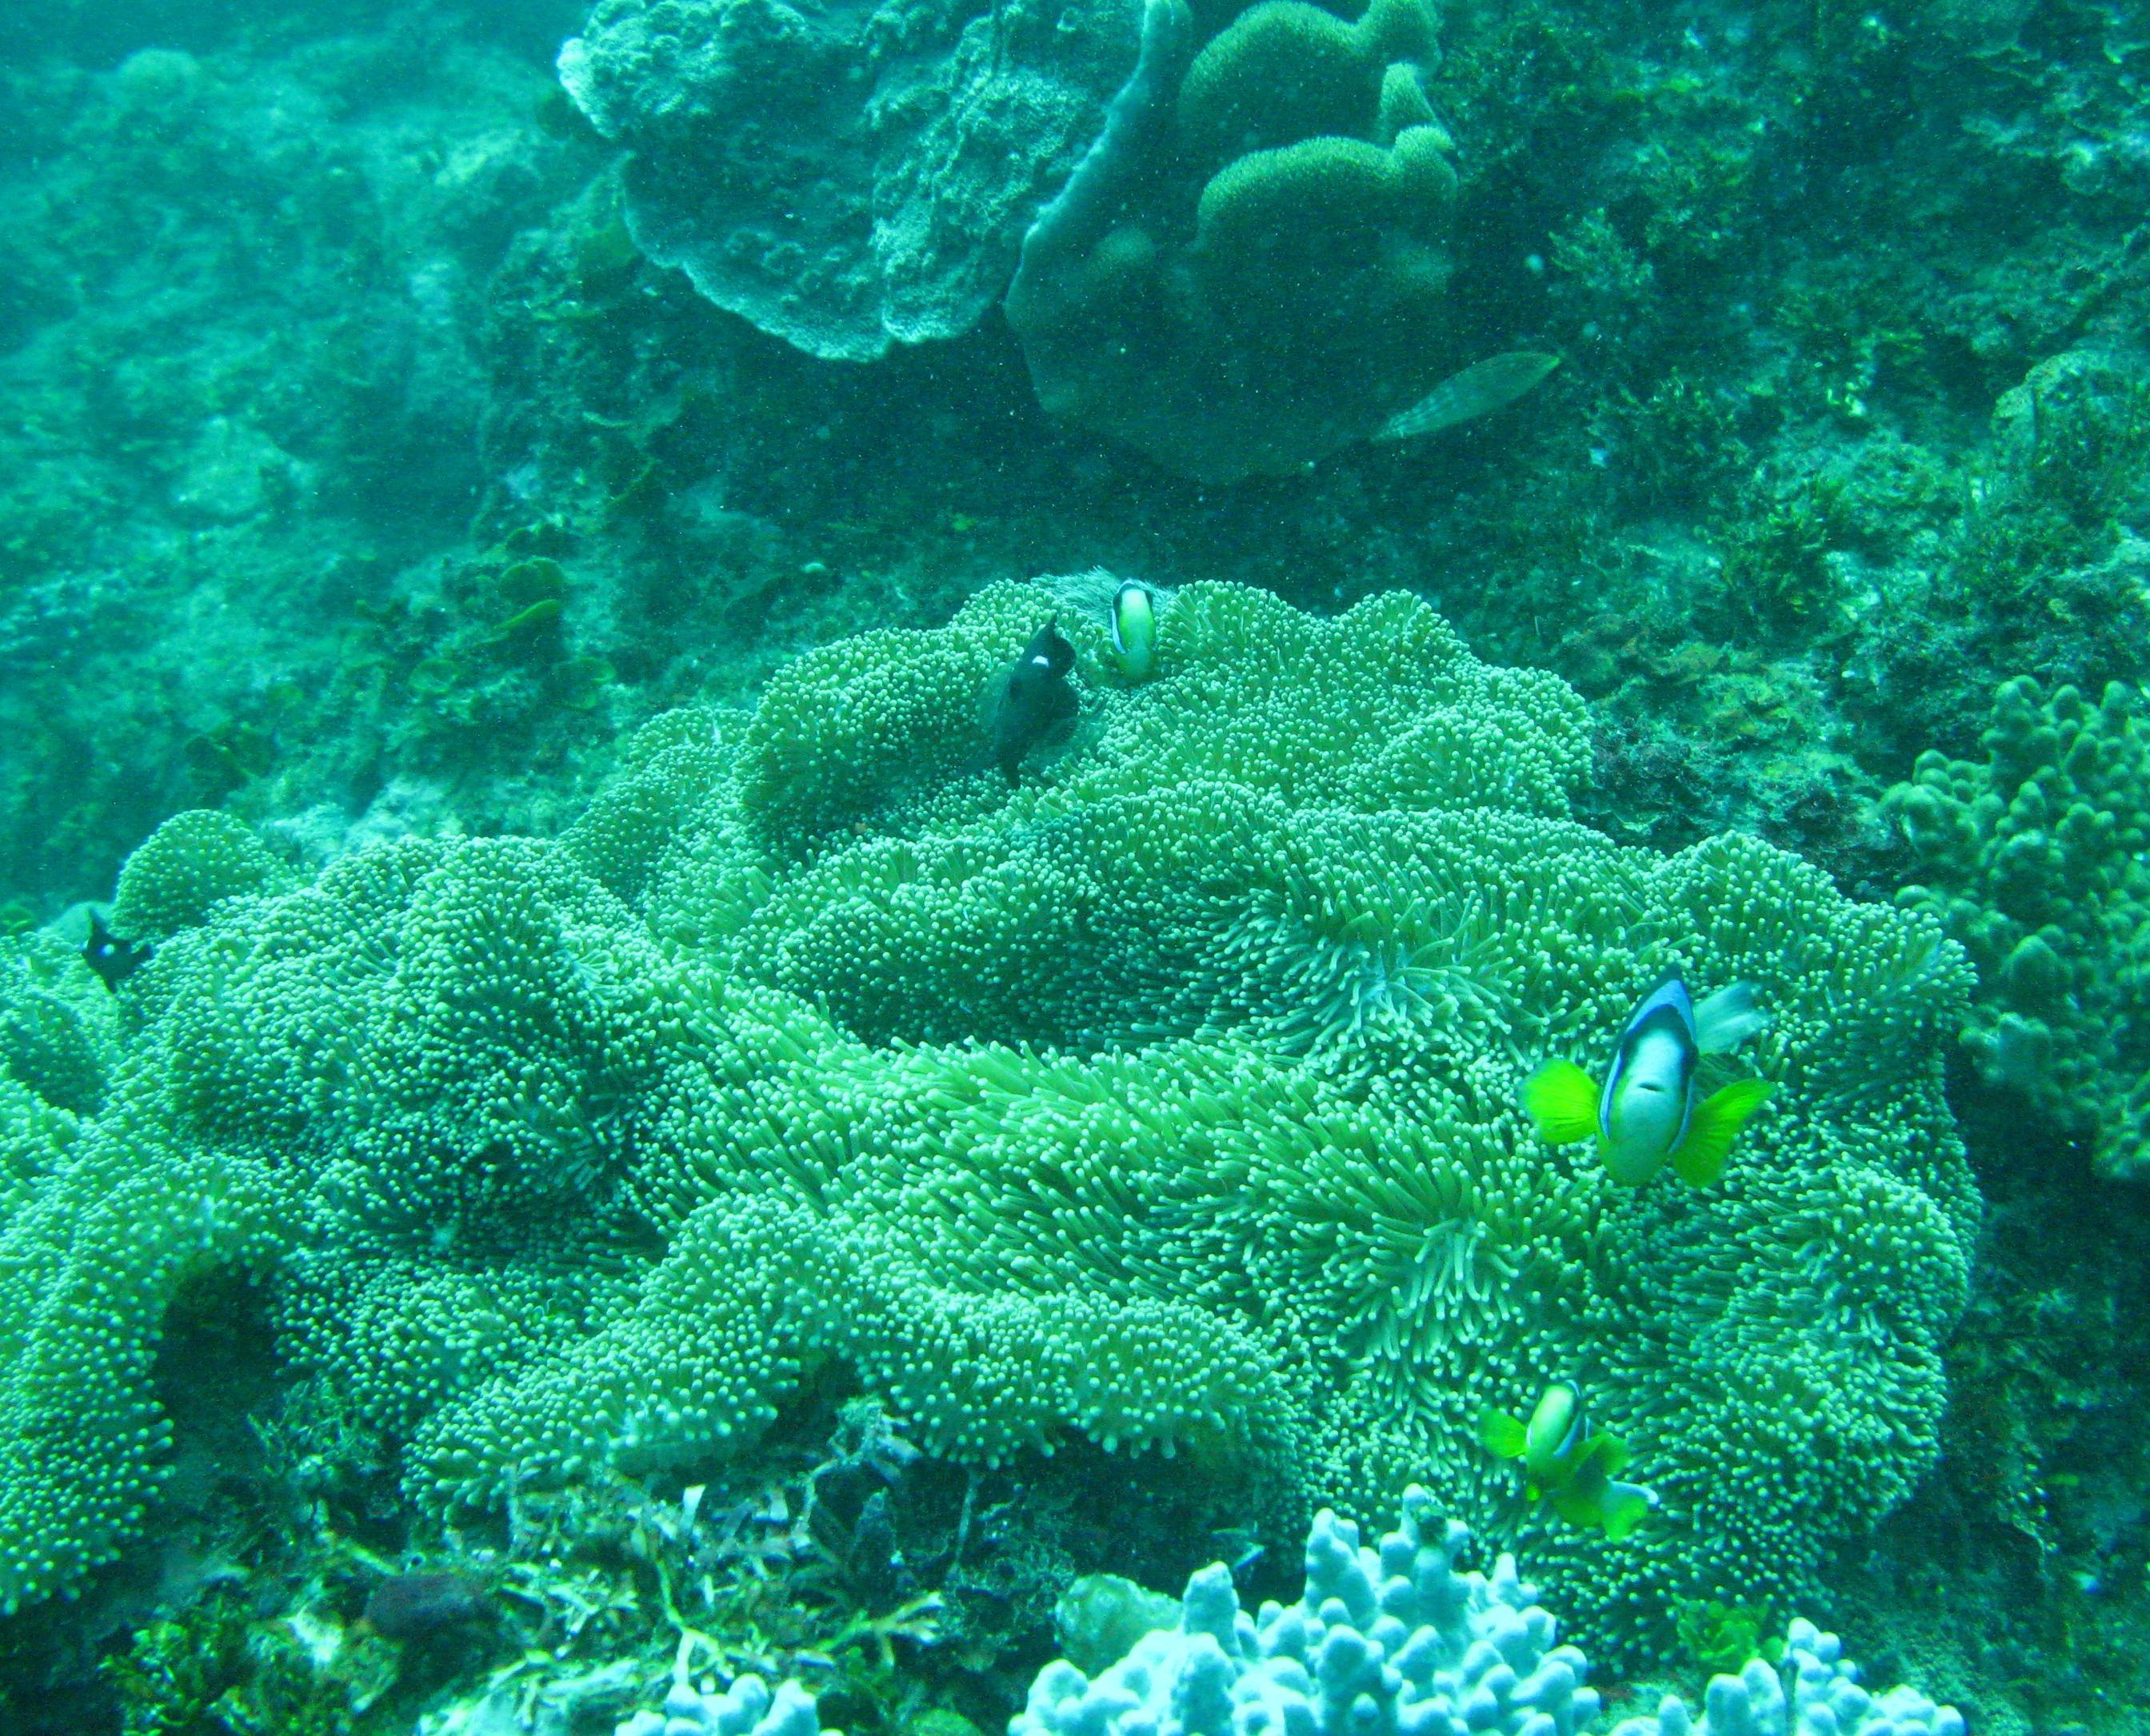Fish: (1508, 953, 1804, 1240)
